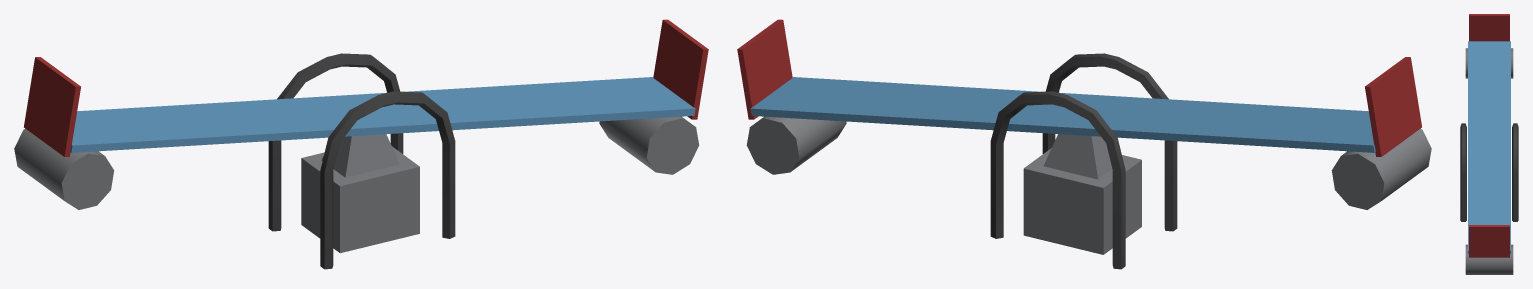
Rendered from SM_playground_object_02.fbx.
3 renders of one model, left to right at view 1: azimuth 30°, elevation 25°; view 2: azimuth 150°, elevation 25°; view 3: azimuth 270°, elevation 25°, orthographic. The views are drawn at different scales.
Parts seen in each view (by area): view 1: Box5742; view 2: Box5742; view 3: Box5742.
Boxes of the visible parts, bbox=[...] form: Box5742: bbox=[14, 19, 708, 269]; Box5742: bbox=[737, 19, 1431, 269]; Box5742: bbox=[1460, 14, 1518, 274].
Size of the model in its own units: 146 by 50.7 by 22.73.
